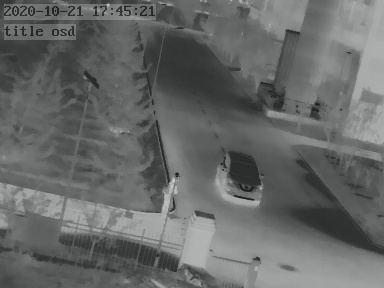person: (162, 177, 177, 218)
vehicle: (214, 150, 261, 200)
